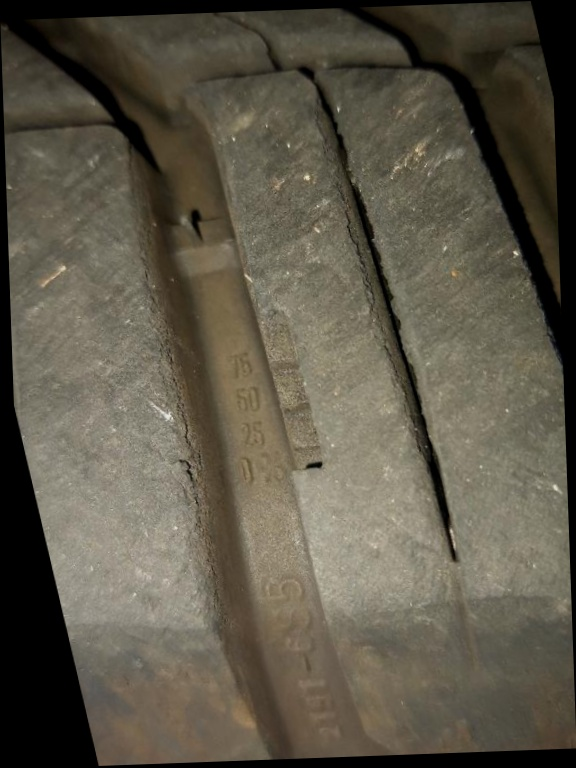temoin:90: (234, 269, 338, 491)
